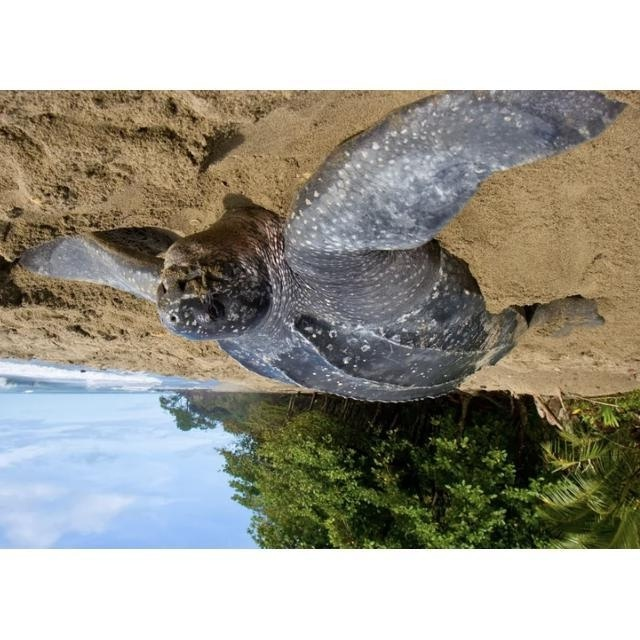turtle: (19, 92, 627, 404)
